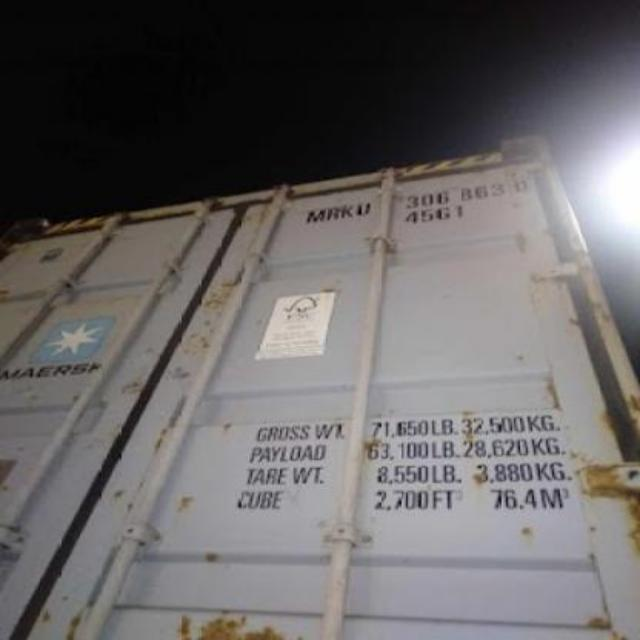0: (418, 186, 434, 208), (514, 174, 530, 196)
3: (488, 174, 508, 202), (402, 188, 420, 212)
6: (436, 184, 452, 206), (474, 182, 490, 202)
8: (456, 182, 474, 202)
K: (341, 200, 354, 224)
M: (304, 197, 324, 227)
R: (324, 199, 340, 225)
U: (354, 191, 372, 229)
